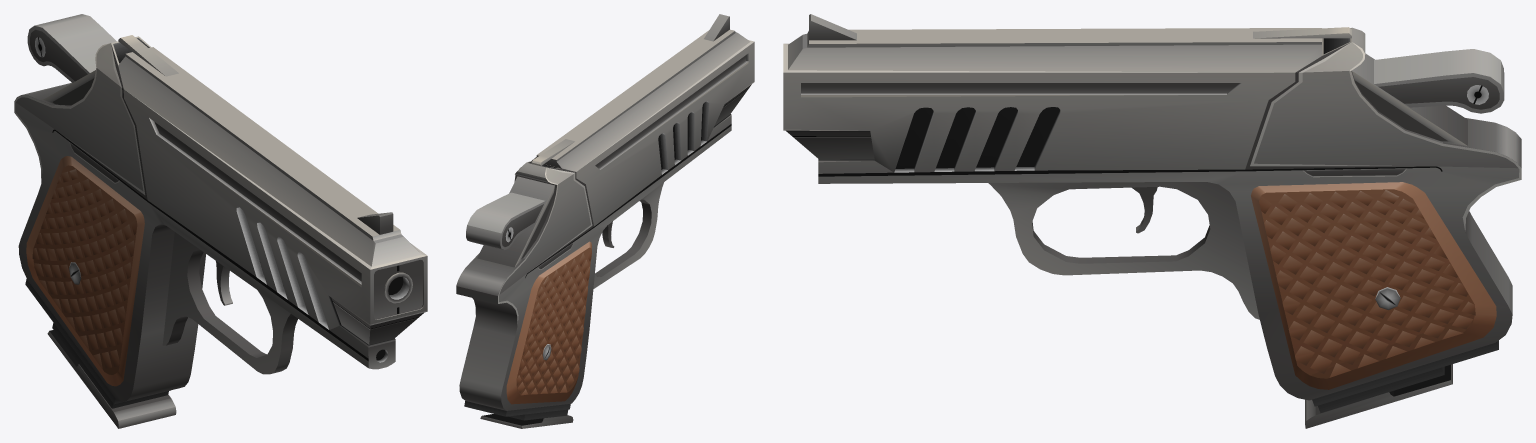
Rendered from TestWeaponGunGLB.glb.
3 renders of one model, left to right at view 1: azimuth 30°, elevation 25°; view 2: azimuth 150°, elevation 25°; view 3: azimuth 270°, elevation 25°, orthographic. The views are drawn at different scales.
Parts seen in each view (by area): view 1: Weapon_Gun; view 2: Weapon_Gun; view 3: Weapon_Gun.
Part boxes in pixels (box(x1,y1,x2,y2)): Weapon_Gun: box(14, 14, 427, 428); Weapon_Gun: box(456, 14, 754, 428); Weapon_Gun: box(783, 14, 1521, 428).
Bounding box in the file's own units: 0.1609 × 0.8609 × 1.45.
Materials: 1 (1 with a texture image).
